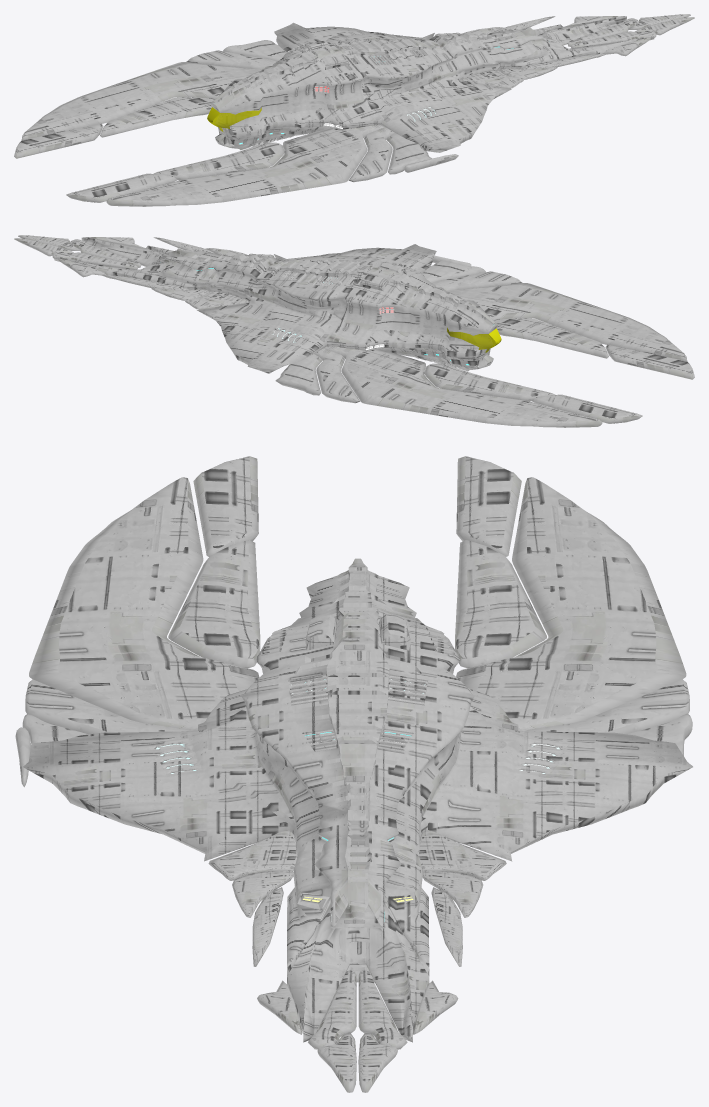
Rendered from cand-e.glb.
3 views of the same model, one above another, from view 1: azimuth 30°, elevation 25°; view 2: azimuth 150°, elevation 25°; view 3: azimuth 270°, elevation 25° (orthographic). The views are drawn at different scales.
Parts seen in each view (by area): view 1: hull; view 2: hull; view 3: hull.
Boxes of the visible parts, box(x1,y1,x2,y2) form: hull: box(14, 14, 694, 206); hull: box(14, 235, 694, 427); hull: box(15, 456, 692, 1092).
Bounding box in the file's own units: 24 × 2.77 × 10.81.
Materials: 8 (1 with a texture image).
